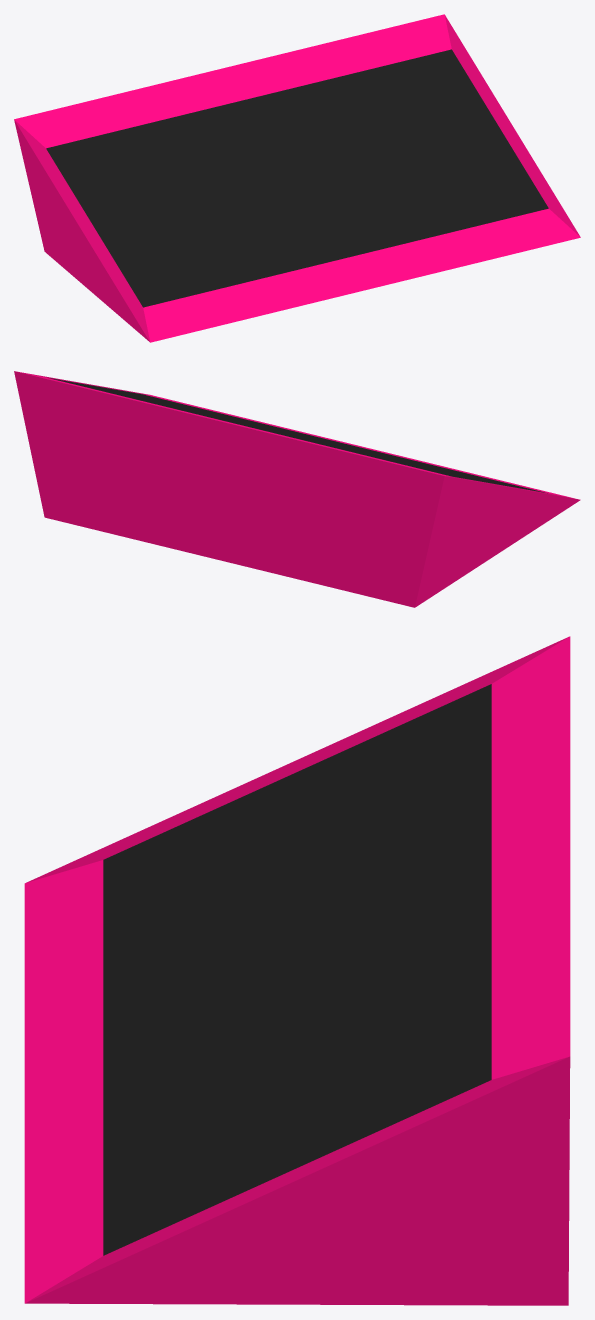
File: price_chart.glb
The picture shows the model from 3 angles, top to bottom: view 1: azimuth 30°, elevation 25°; view 2: azimuth 150°, elevation 25°; view 3: azimuth 270°, elevation 25°; orthographic projection. The views are drawn at different scales.
Parts seen in each view (by area): view 1: price_chart; view 2: price_chart; view 3: price_chart.
Boxes of the visible parts, box(x1,y1,x2,y2) form: price_chart: box(14, 14, 580, 342); price_chart: box(14, 371, 580, 607); price_chart: box(24, 636, 570, 1305).
Bounding box in the file's own units: 0.2282 × 0.0706 × 0.1252.
1 material, 1 textured.
